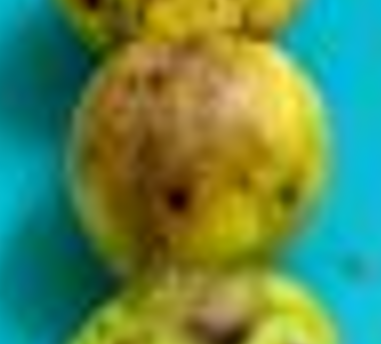guava_C: (62, 28, 331, 290)
